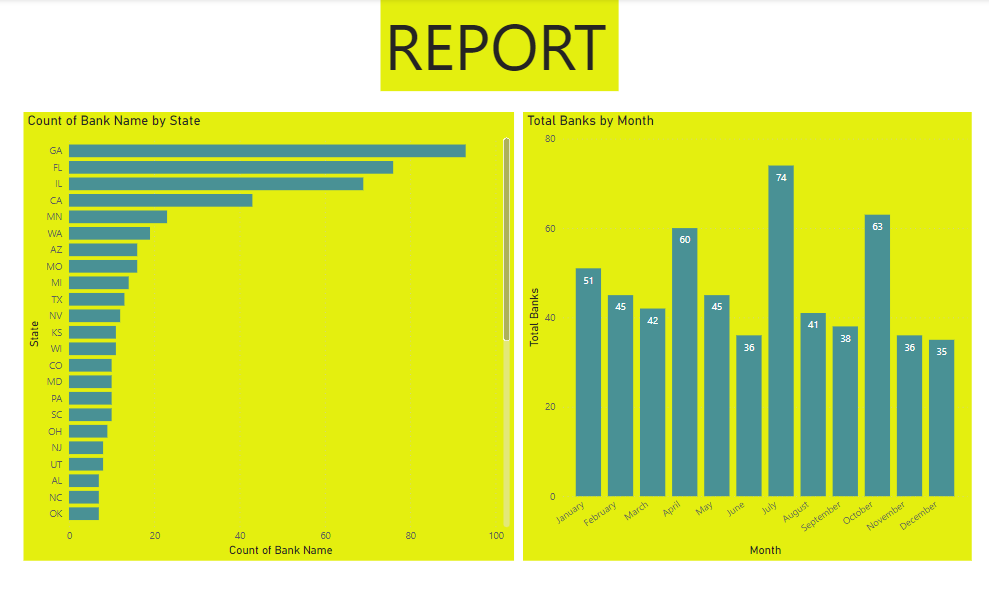

The dashboard page shown, as its layout file describes it:
{"tool":"powerbi","page":{"name":"Page 1","canvas":[1280,720],"ordinal":0},"visuals":[{"type":"barChart","fields":{"Category":["Failed Banks.State "],"Y":["CountNonNull(Failed Banks.Bank Name )"]},"box":[40.3,143.8,618,565],"z":0},{"type":"columnChart","fields":{"Category":["Calendar.Month"],"Y":["Failed Banks.Total Banks"]},"box":[668.2,143.8,565.1,565],"z":1000},{"type":"textbox","box":[490,0,300,117.5],"z":1001}]}

Visuals, with their boxes on the page's 1280x720 design canvas (x1, y1, x2, y2). These are canvas units, not pixel positions in the 1008x592 screenshot, which may show the page scaled, cropped or inside an application window:
barChart - Failed Banks.State  x CountNonNull(Failed Banks.Bank Name ): (left=40, top=144, right=658, bottom=709)
columnChart - Calendar.Month x Failed Banks.Total Banks: (left=668, top=144, right=1233, bottom=709)
textbox: (left=490, top=0, right=790, bottom=118)
